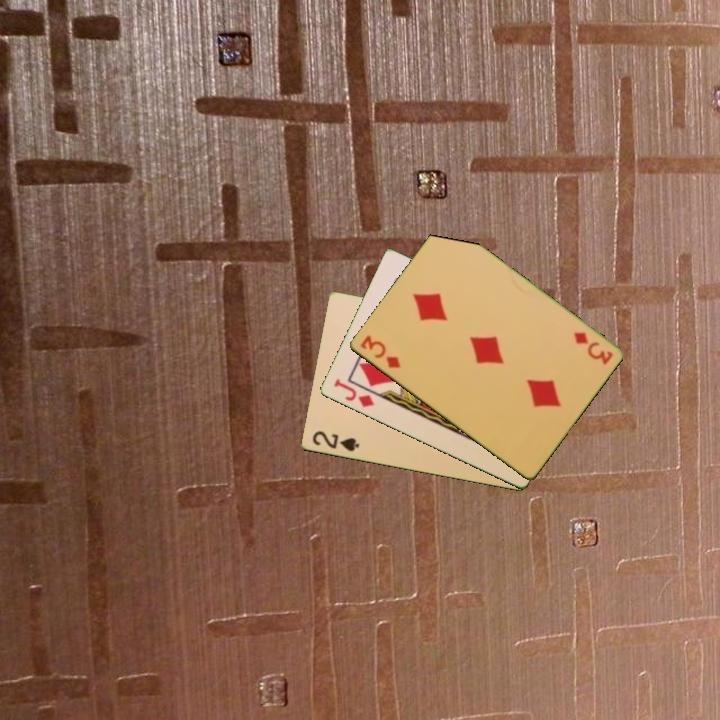2s: (309, 427, 362, 455)
3d: (569, 328, 616, 368), (356, 332, 403, 371)
Jd: (329, 375, 377, 411)
